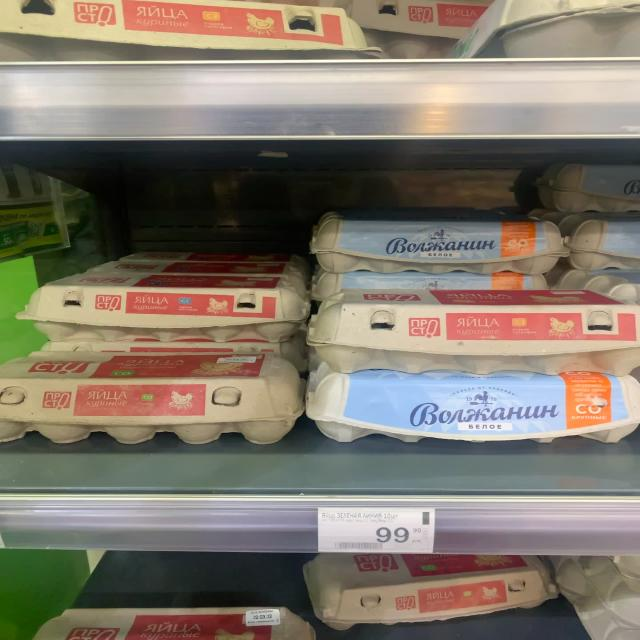egg box: (310, 282, 632, 378), (0, 348, 309, 448), (304, 362, 635, 448), (16, 272, 316, 344), (304, 552, 558, 632), (309, 211, 567, 278)
